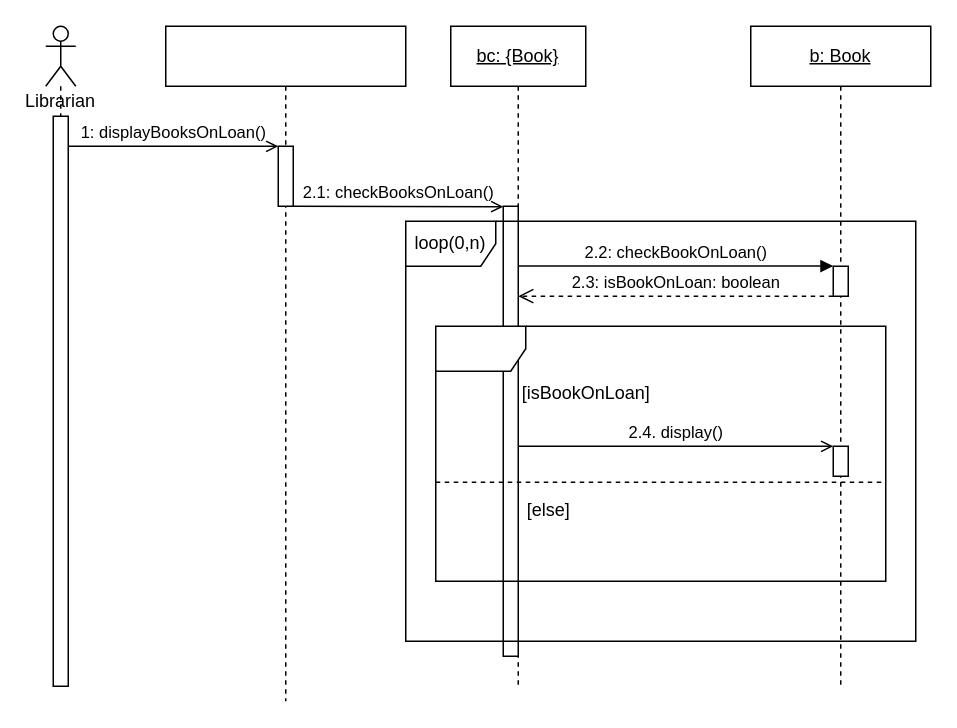
The diagram is 957 pixels wide and 728 high, and some of its shapes have lost their labels. Each missing label, with the box of its shape:
alt: (434, 325, 886, 581)
app: Library Application: (164, 25, 406, 701)
